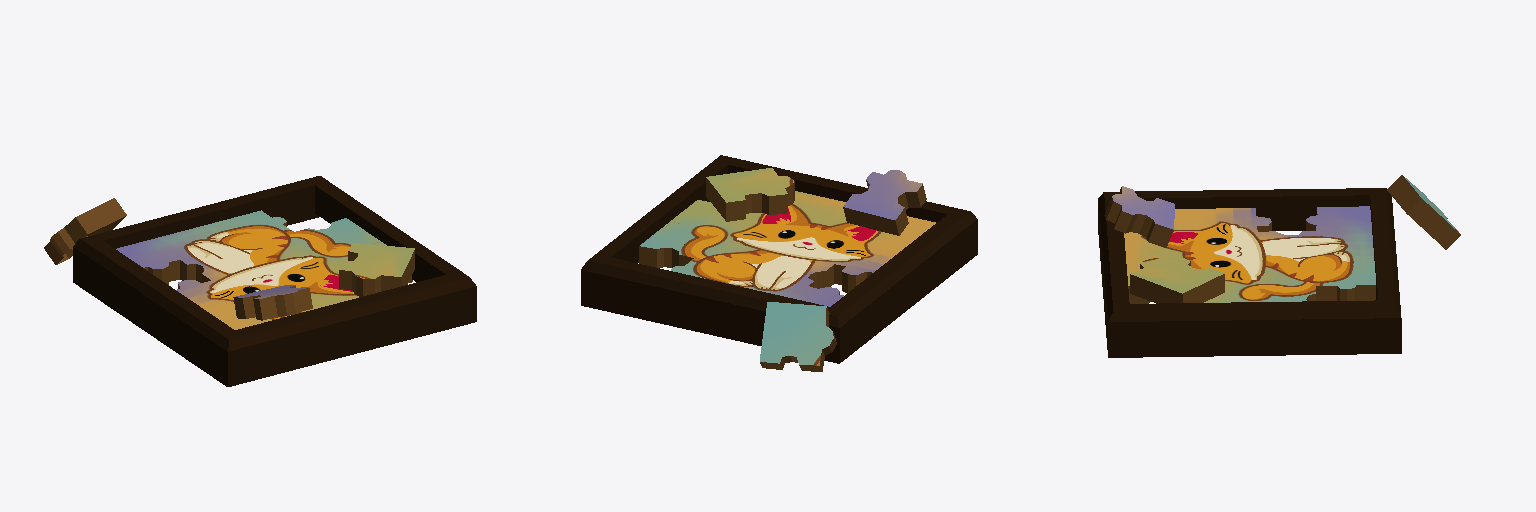
3 renders of one model, left to right at view 1: azimuth 30°, elevation 25°; view 2: azimuth 150°, elevation 25°; view 3: azimuth 270°, elevation 25°, orthographic.
Visible parts, largest first — view 1: polySurface10, polySurface11; view 2: polySurface11, polySurface10; view 3: polySurface10, polySurface11.
Boxes of the visible parts, x1=… form: polySurface10: x1=73, y1=176, x2=476, y2=386; polySurface11: x1=44, y1=198, x2=414, y2=329; polySurface11: x1=639, y1=168, x2=935, y2=371; polySurface10: x1=581, y1=155, x2=977, y2=363; polySurface10: x1=1098, y1=188, x2=1401, y2=357; polySurface11: x1=1104, y1=175, x2=1460, y2=303.
Size of the model in its own units: 8.63 by 2.2 by 10.05.
Materials: 2 (1 with a texture image).